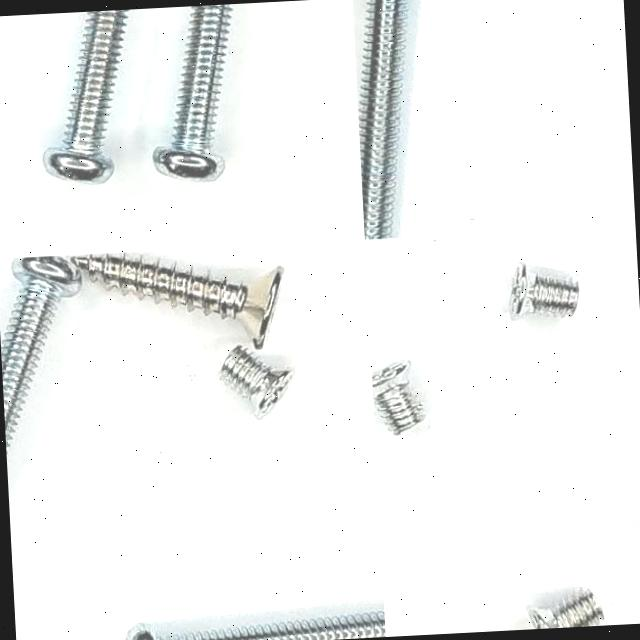Screw: (70, 253, 284, 349), (1, 256, 80, 450), (42, 10, 128, 184), (152, 4, 233, 180), (358, 0, 405, 240), (126, 601, 386, 640), (221, 346, 293, 419), (509, 263, 578, 320), (372, 361, 425, 435), (527, 590, 604, 629)
